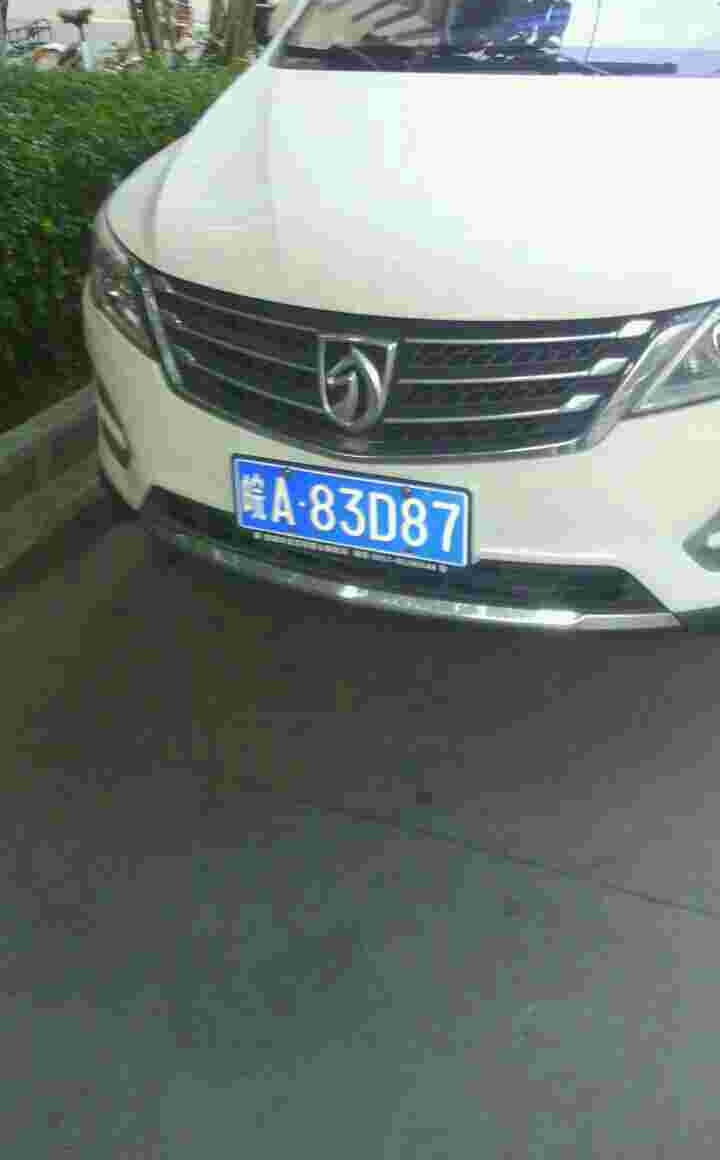license_plate: (230, 461, 471, 568)
